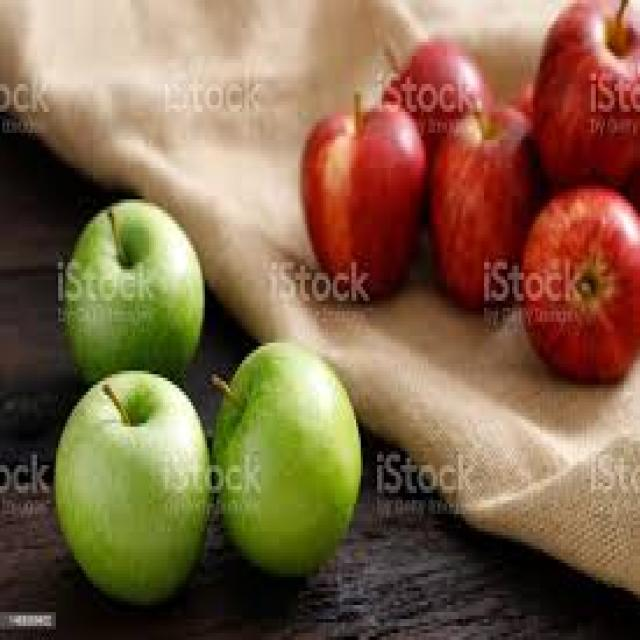non_orange: (174, 307, 377, 610), (31, 343, 214, 614), (42, 168, 224, 430), (282, 60, 456, 294), (424, 71, 562, 311), (499, 161, 640, 382), (501, 0, 640, 219), (376, 0, 508, 180)
